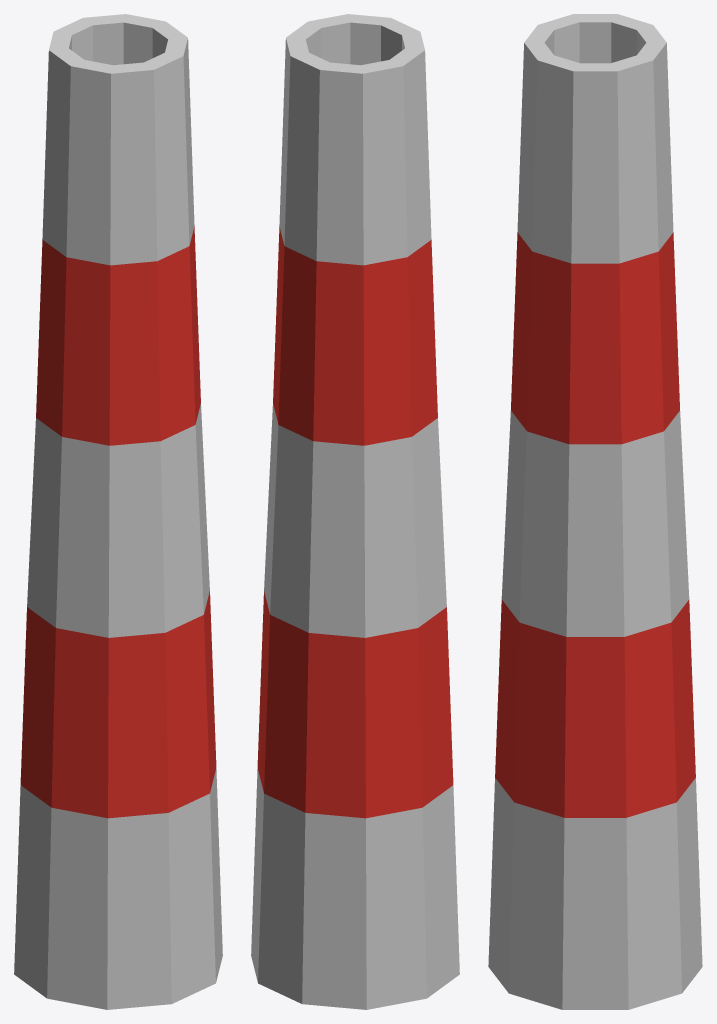
File: SmokeCO2Stack.fbx
The picture shows the model from 3 angles, left to right: view 1: azimuth 30°, elevation 25°; view 2: azimuth 150°, elevation 25°; view 3: azimuth 270°, elevation 25°; orthographic projection.
Visible parts, largest first — view 1: Stack; view 2: Stack; view 3: Stack.
Boxes of the visible parts, x1=… form: Stack: x1=14, y1=14, x2=222, y2=1009; Stack: x1=251, y1=14, x2=459, y2=1009; Stack: x1=488, y1=14, x2=702, y2=1009.
Bounding box in the file's own units: 200 × 1000 × 210.
